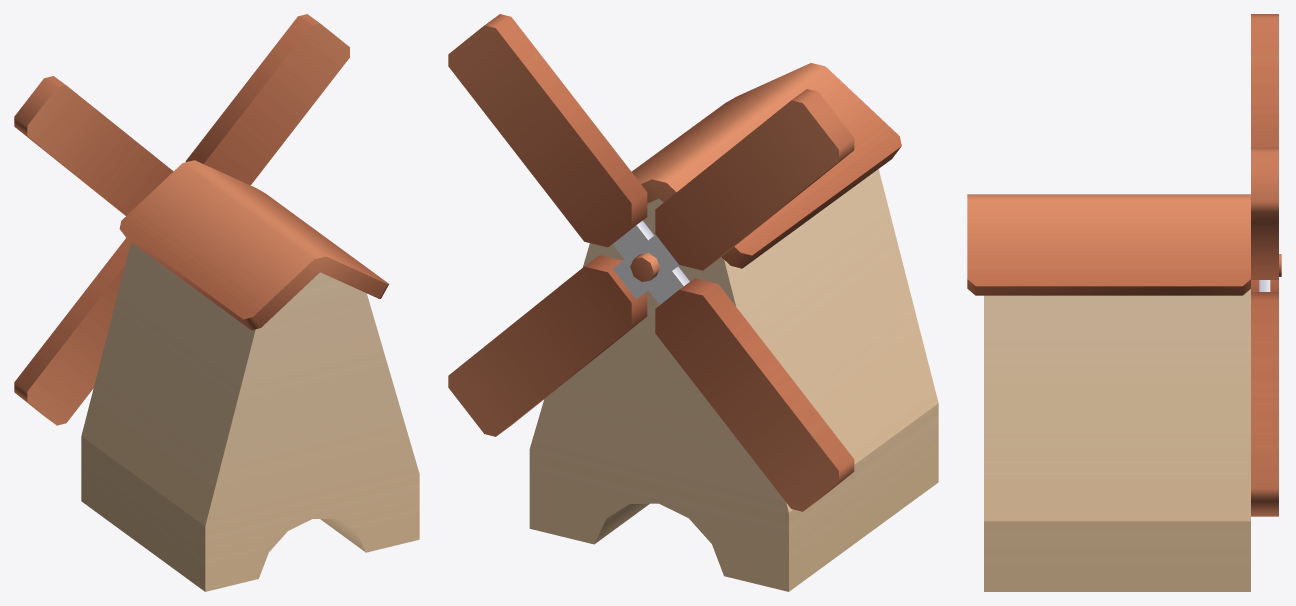
File: structure-windmill.glb
3 views of the same model, side by side, from view 1: azimuth 30°, elevation 25°; view 2: azimuth 150°, elevation 25°; view 3: azimuth 270°, elevation 25° (orthographic). The views are drawn at different scales.
Parts seen in each view (by area): view 1: structure-windmill; view 2: structure-windmill; view 3: structure-windmill.
Boxes of the visible parts, x1,y1,x2,y2 form: structure-windmill: (14,14,419,591); structure-windmill: (448,14,938,591); structure-windmill: (967,14,1281,591).
Bounding box in the file's own units: 1.2 × 1.5 × 0.9416.
Materials: 1 (1 with a texture image).
